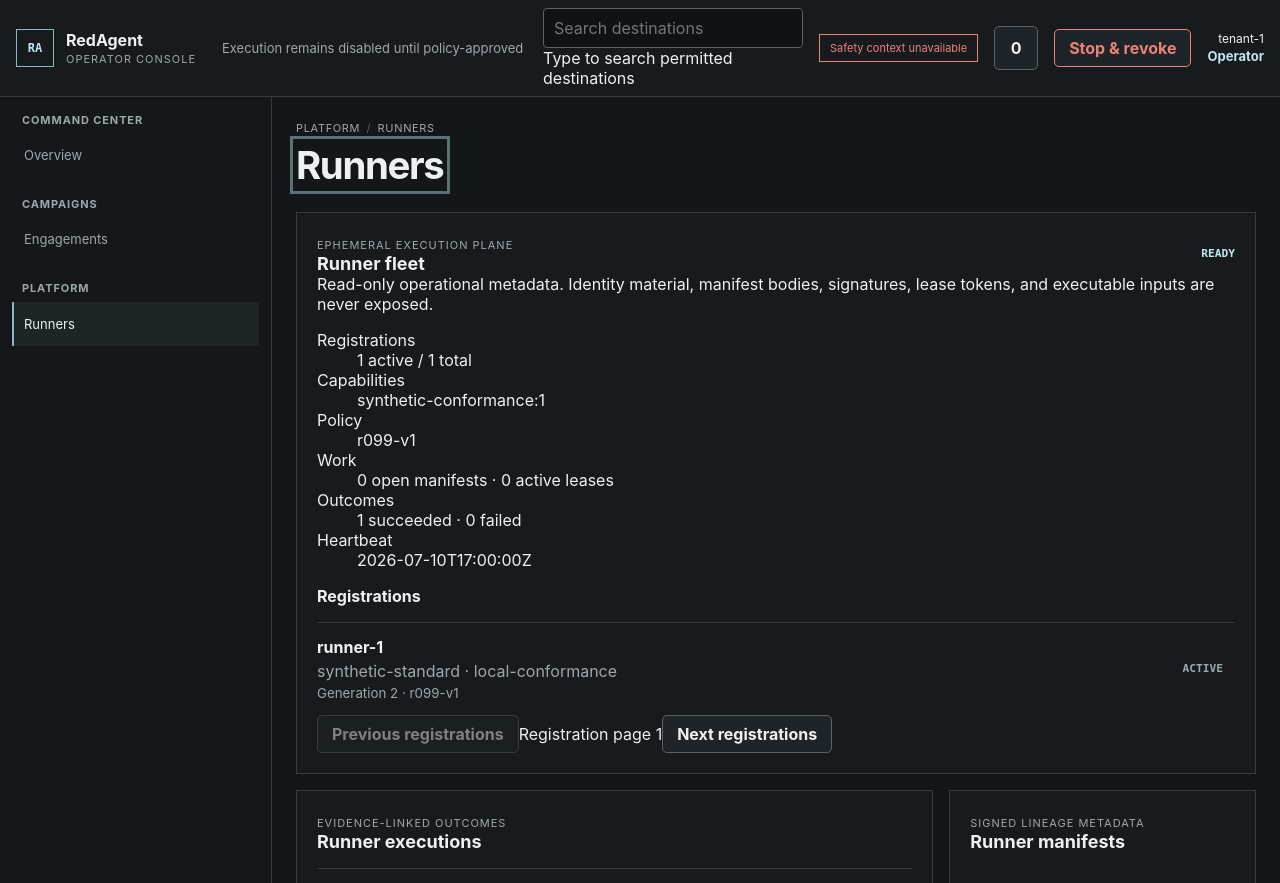
it: shows metadata-only runner readiness, lineage, evidence, cleanup, and failures
Check: the heading "Runner fleet" is shown, box left=317, top=253, right=425, bottom=274
Check: the text "Ready" is shown, box left=1201, top=248, right=1235, bottom=259
Click the button "Next registrations": click(747, 734) left=662, top=715, right=832, bottom=753
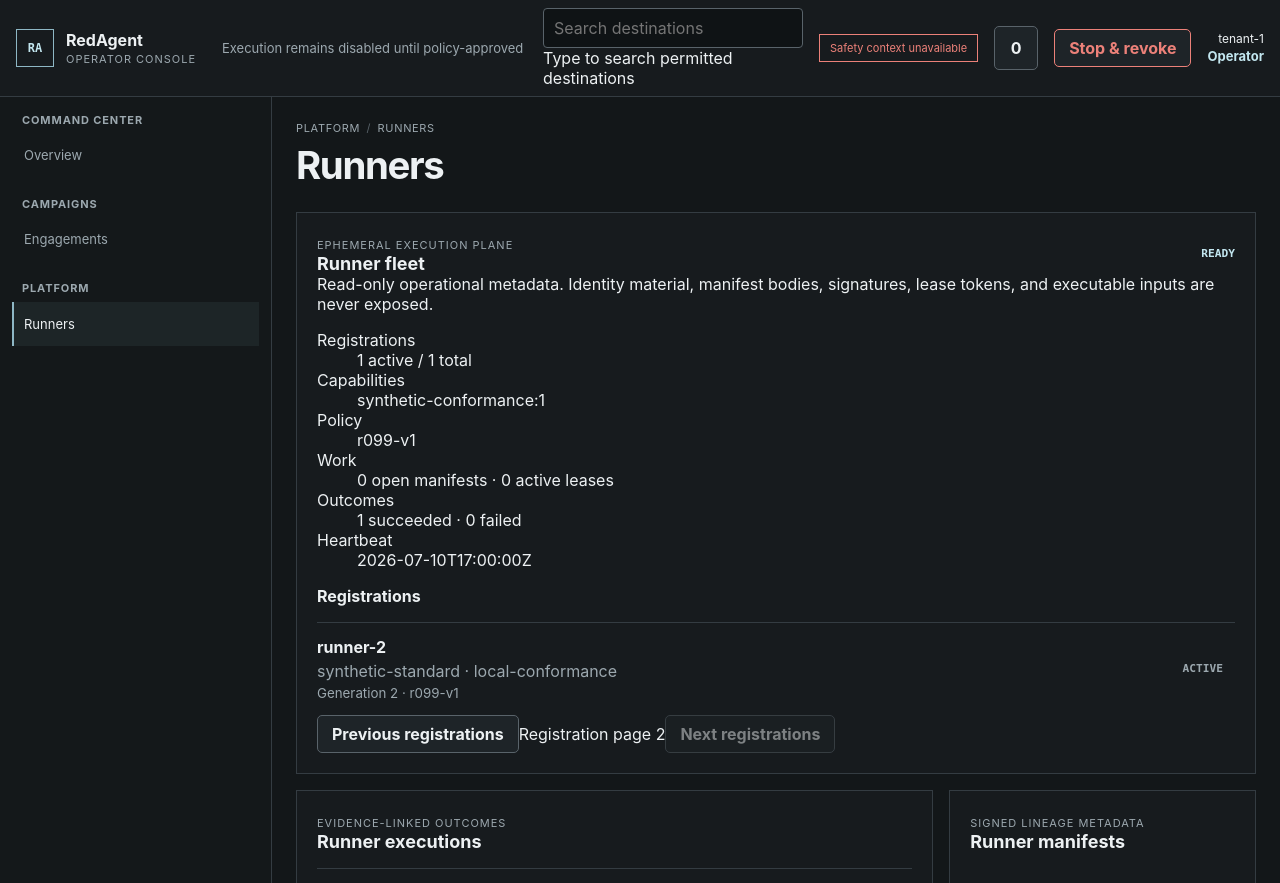
Check: the text "runner-2" is shown, box left=317, top=637, right=386, bottom=657
Check: the text "Registration page 2" is shown, box left=519, top=724, right=665, bottom=744
